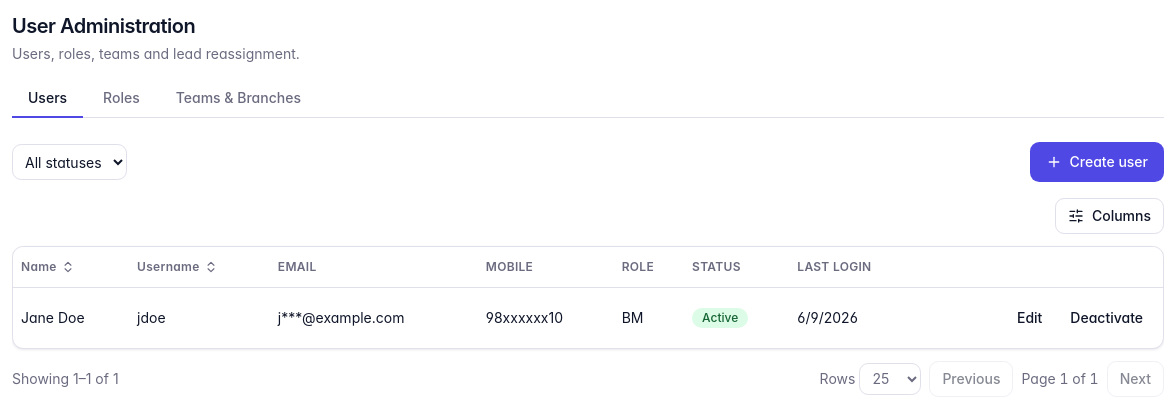
UserAdminPage › switches to the Roles tab and lists role rows
What coordinates should you click on to do the following:
click the tab "Roles"
I would click on:
 (121, 99)
Its box is [87,80,156,118].
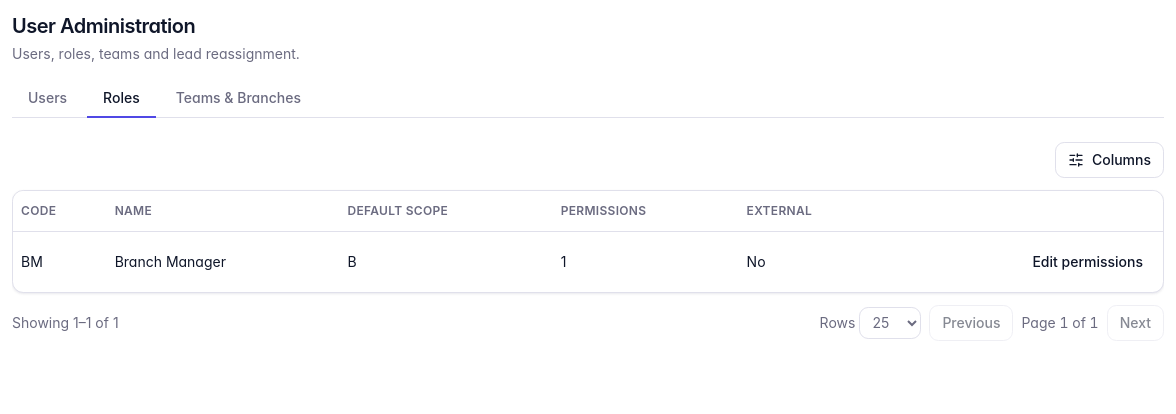
Now the text "Branch Manager" is shown, box [107,231,340,292]
Now the button "Edit permissions" is shown, box [1020,244,1155,280]
